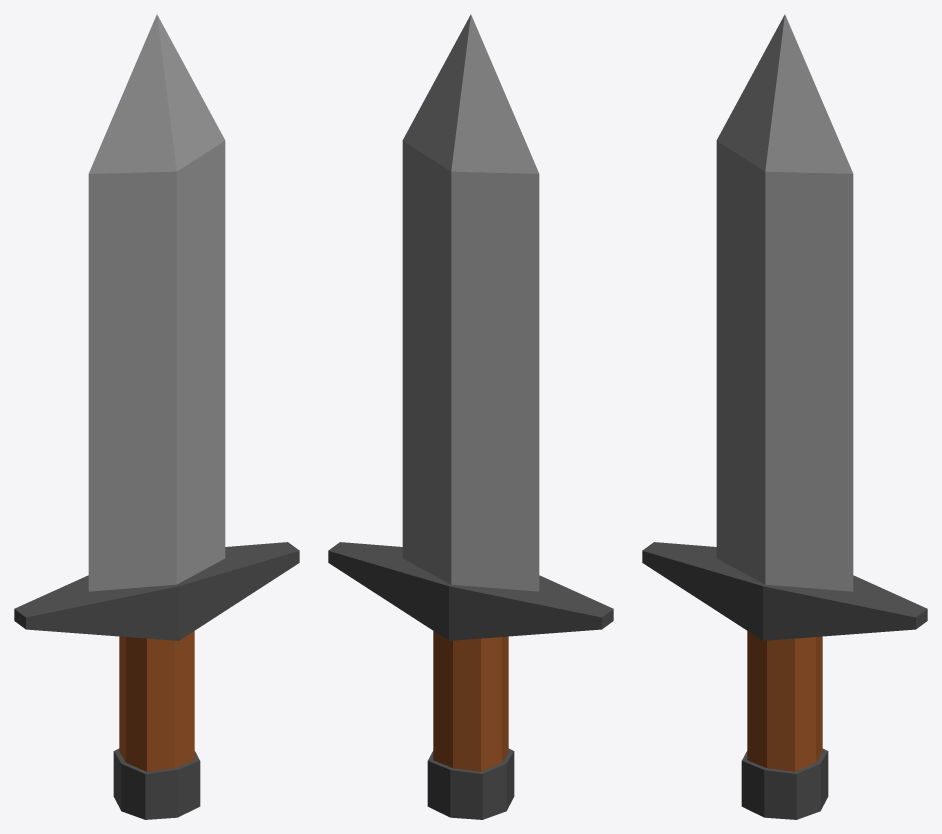
The model's file is Sword.dae.
3 views of the same model, side by side, from view 1: azimuth 30°, elevation 25°; view 2: azimuth 150°, elevation 25°; view 3: azimuth 330°, elevation 25° (orthographic).
Parts seen in each view (by area): view 1: Cube, Cube.001, Cube.002, Cube.003; view 2: Cube, Cube.001, Cube.002, Cube.003; view 3: Cube, Cube.001, Cube.002, Cube.003.
Part boxes in pixels (box(x1,y1,x2,y2)): Cube: box(88, 14, 225, 591); Cube.001: box(14, 542, 299, 640); Cube.002: box(119, 631, 194, 771); Cube.003: box(113, 748, 200, 819); Cube: box(402, 14, 539, 591); Cube.001: box(328, 542, 613, 640); Cube.002: box(433, 631, 508, 771); Cube.003: box(427, 748, 514, 819); Cube: box(716, 14, 853, 591); Cube.001: box(642, 542, 927, 640); Cube.002: box(747, 631, 822, 771); Cube.003: box(741, 748, 828, 819).
Size of the model in its own units: 4 by 1.11 by 11.09.
